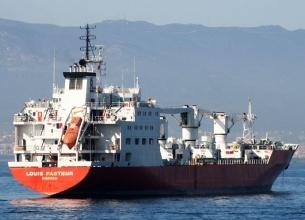Cargoship: (7, 30, 293, 193)
